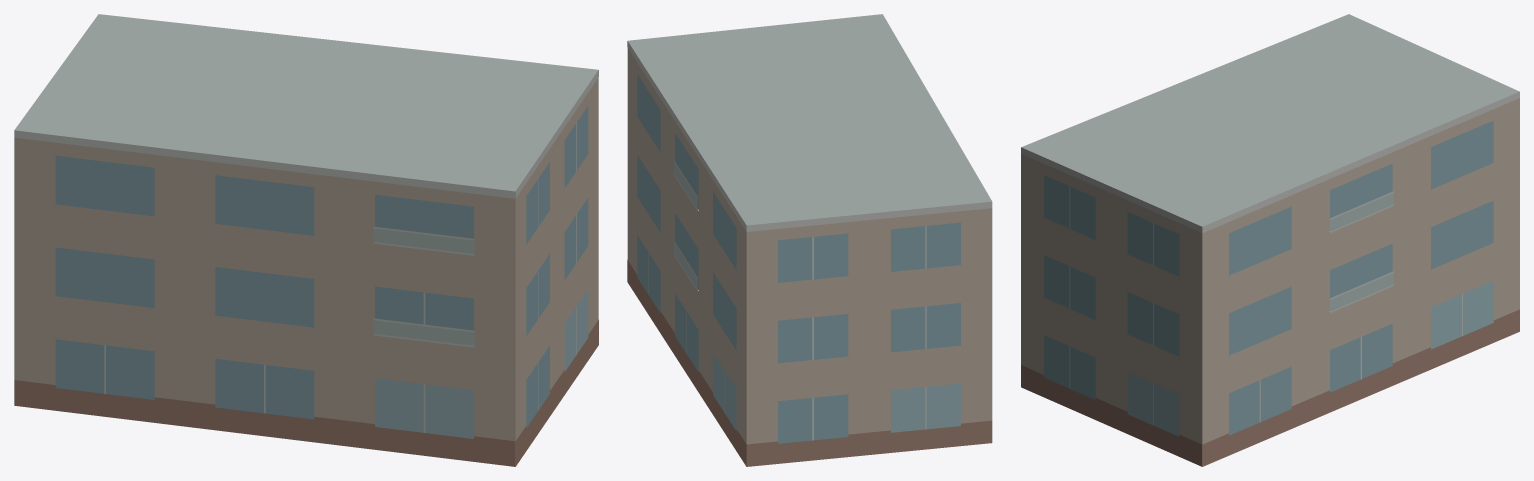
The model's file is survey-upis-33008317.glb.
3 renders of one model, left to right at view 1: azimuth 30°, elevation 25°; view 2: azimuth 150°, elevation 25°; view 3: azimuth 270°, elevation 25°, orthographic. The views are drawn at different scales.
Parts seen in each view (by area): view 1: survey-upis-33008317.tmp; view 2: survey-upis-33008317.tmp; view 3: survey-upis-33008317.tmp.
Boxes of the visible parts, box(x1,y1,x2,y2) form: survey-upis-33008317.tmp: box(14, 14, 598, 466); survey-upis-33008317.tmp: box(627, 14, 992, 466); survey-upis-33008317.tmp: box(1021, 14, 1519, 466).
Bounding box in the file's own units: 17.41 × 9.15 × 17.24.
